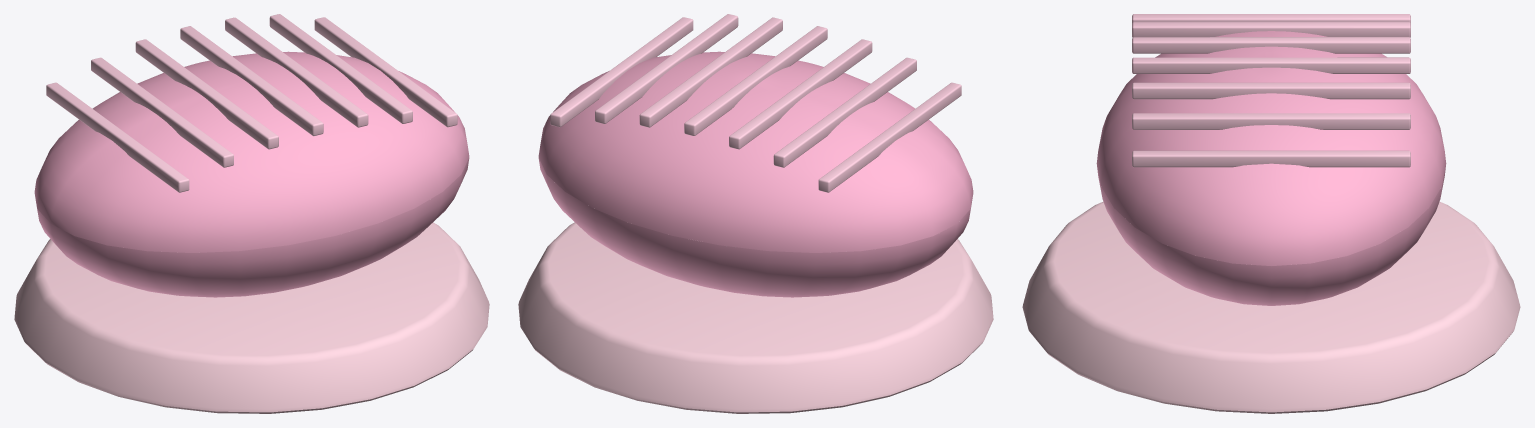
Rendered from object-pearl-shell.glb.
3 renders of one model, left to right at view 1: azimuth 30°, elevation 25°; view 2: azimuth 150°, elevation 25°; view 3: azimuth 270°, elevation 25°, orthographic. The views are drawn at different scales.
Parts seen in each view (by area): view 1: part-shell-top-mesh, Node_0-mesh; view 2: part-shell-top-mesh, Node_0-mesh; view 3: Node_0-mesh, part-shell-top-mesh.
Boxes of the visible parts, <box> form: part-shell-top-mesh: <box>34,14,469,252</box>; Node_0-mesh: <box>14,158,489,413</box>; part-shell-top-mesh: <box>538,14,973,252</box>; Node_0-mesh: <box>518,158,993,413</box>; Node_0-mesh: <box>1022,166,1520,413</box>; part-shell-top-mesh: <box>1096,14,1446,265</box>.
Size of the model in its own units: 1.11 by 0.615 by 1.11.
